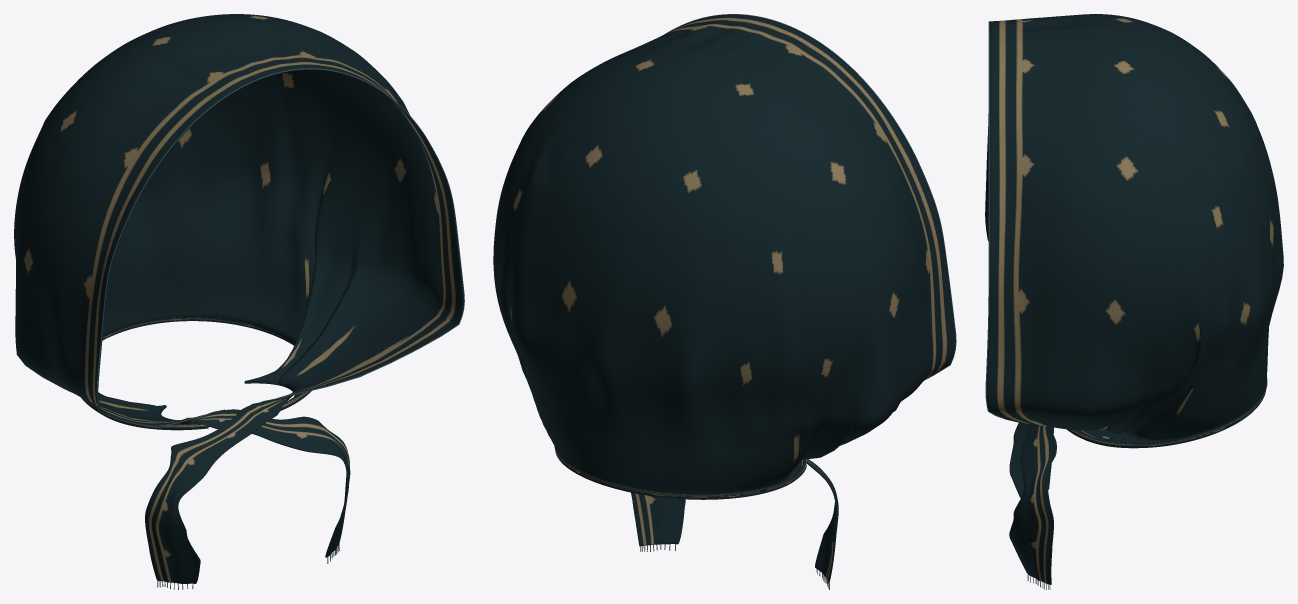
The model's file is Feminine-bandeau-volume-pashmina248-headgear.glb.
3 renders of one model, left to right at view 1: azimuth 30°, elevation 25°; view 2: azimuth 150°, elevation 25°; view 3: azimuth 270°, elevation 25°, orthographic. The views are drawn at different scales.
Visible parts, largest first — view 1: 226 headgear / Headwear / continuous woven pashmina239, 226 headgear / Headwear / face edge239; view 2: 226 headgear / Headwear / continuous woven pashmina239, 226 headgear / Headwear / face edge239; view 3: 226 headgear / Headwear / continuous woven pashmina239, 226 headgear / Headwear / face edge239.
Part boxes in pixels (box(x1,y1,x2,y2)): 226 headgear / Headwear / continuous woven pashmina239: box(14, 14, 463, 583); 226 headgear / Headwear / face edge239: box(96, 68, 464, 427); 226 headgear / Headwear / continuous woven pashmina239: box(493, 14, 955, 583); 226 headgear / Headwear / face edge239: box(664, 14, 956, 379); 226 headgear / Headwear / continuous woven pashmina239: box(985, 14, 1283, 584); 226 headgear / Headwear / face edge239: box(985, 21, 1027, 423).
Bounding box in the file's own units: 1.02 × 1.35 × 0.7113.
Materials: 3 (1 with a texture image).
